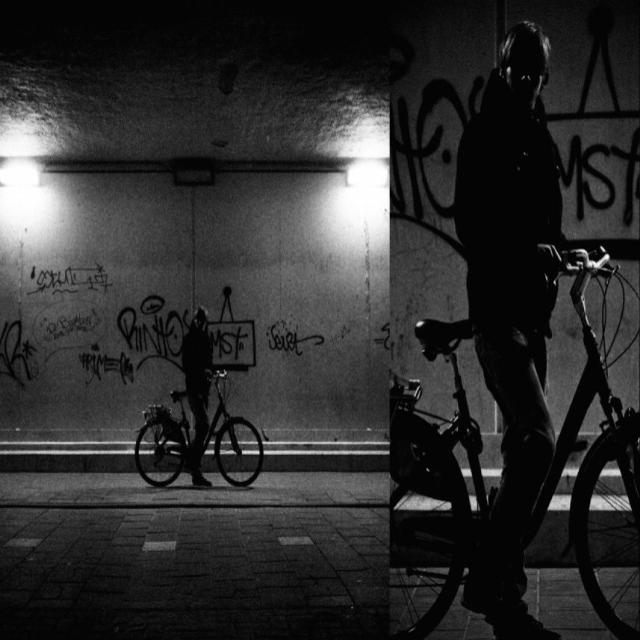Bicycle: (378, 308, 640, 636), (117, 396, 281, 494)
People: (470, 13, 565, 591), (186, 301, 228, 445)
